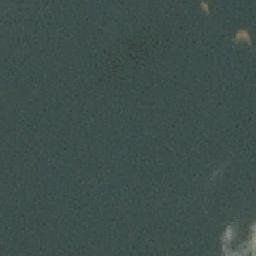cloud: (223, 224, 254, 254)
debris: (233, 27, 250, 45), (198, 2, 208, 12)
